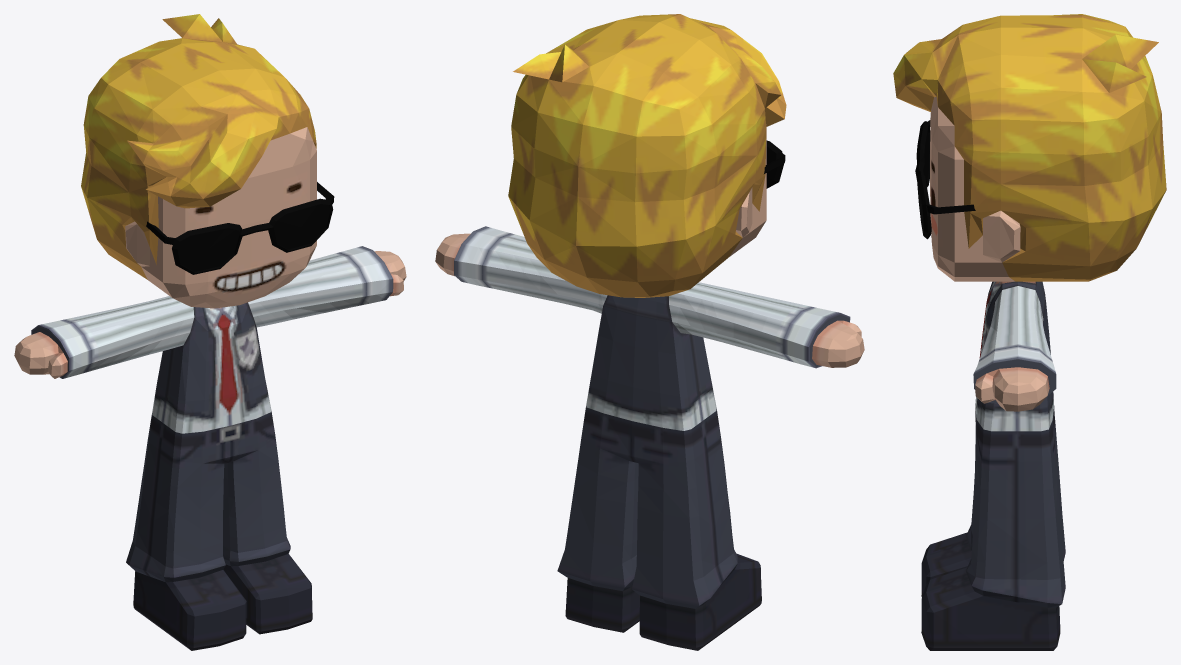
Rendered from NPC_Sidekick.obj.
The picture shows the model from 3 angles, left to right: view 1: azimuth 30°, elevation 25°; view 2: azimuth 150°, elevation 25°; view 3: azimuth 270°, elevation 25°; orthographic projection. The views are drawn at different scales.
Visible parts, largest first — view 1: Mesh_0237, Mesh_0316, Mesh_0315, Mesh_0313; view 2: Mesh_0237, Mesh_0316, Mesh_0315, Mesh_0313; view 3: Mesh_0316, Mesh_0237, Mesh_0315, Mesh_0313.
Boxes of the visible parts, <box> form: Mesh_0237: <box>14,246,406,650</box>; Mesh_0316: <box>81,14,316,279</box>; Mesh_0315: <box>125,127,316,308</box>; Mesh_0313: <box>146,182,334,274</box>; Mesh_0237: <box>435,226,864,650</box>; Mesh_0316: <box>508,14,786,297</box>; Mesh_0315: <box>729,124,766,256</box>; Mesh_0313: <box>764,140,785,188</box>; Mesh_0316: <box>893,14,1166,281</box>; Mesh_0237: <box>921,281,1065,650</box>; Mesh_0315: <box>930,97,1020,281</box>; Mesh_0313: <box>915,120,975,239</box>.
Size of the model in its own units: 1.35 by 1.85 by 0.7609.
4 materials, 4 textured.
